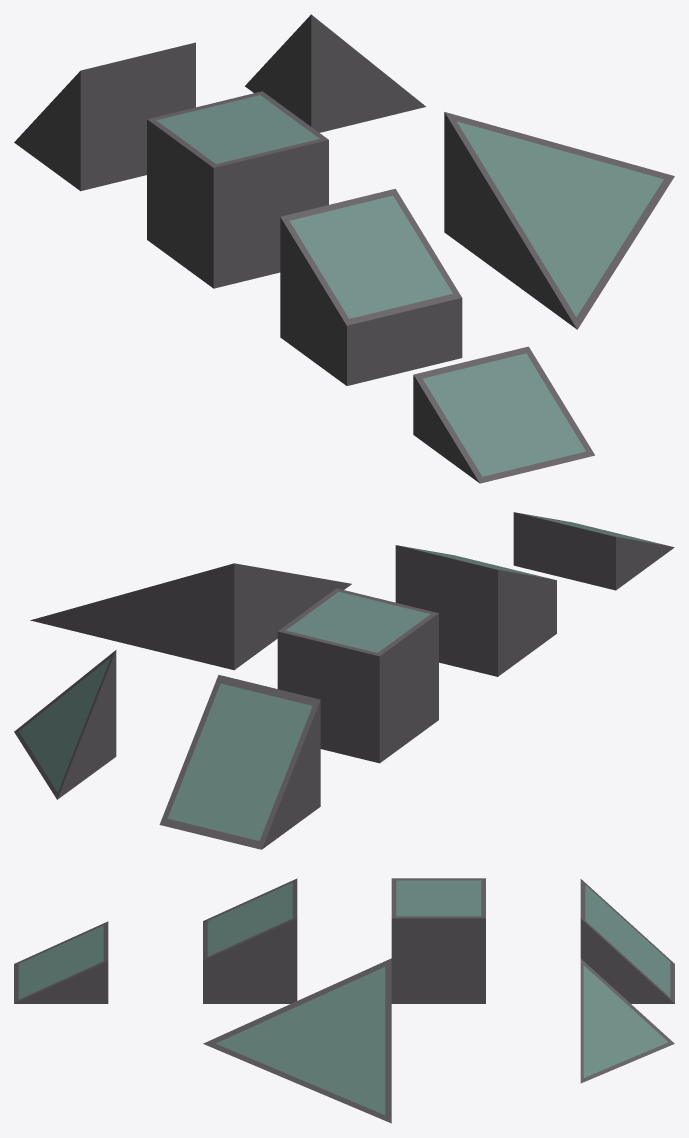
Rendered from test_tileset_2_5D.glb.
3 views of the same model, one above another, from view 1: azimuth 30°, elevation 25°; view 2: azimuth 150°, elevation 25°; view 3: azimuth 270°, elevation 25° (orthographic). The views are drawn at different scales.
Visible parts, largest first — view 1: Cube.005, Cube.003, Cube, Cube.002, Cube.001, Cube.004; view 2: Cube, Cube.001, Cube.005, Cube.003, Cube.004, Cube.002; view 3: Cube.005, Cube, Cube.003, Cube.001, Cube.004, Cube.002.
Part boxes in pixels (box(x1,y1,x2,y2)): Cube.005: box(444, 112, 674, 329); Cube.003: box(280, 188, 462, 385); Cube: box(147, 91, 328, 288); Cube.002: box(413, 346, 594, 483); Cube.001: box(14, 42, 195, 191); Cube.004: box(245, 14, 425, 132); Cube: box(277, 588, 438, 763); Cube.001: box(159, 674, 320, 849); Cube.005: box(30, 563, 351, 670); Cube.003: box(395, 545, 556, 676); Cube.004: box(14, 650, 116, 799); Cube.002: box(513, 512, 674, 590); Cube.005: box(203, 958, 391, 1123); Cube: box(391, 878, 485, 1003); Cube.003: box(203, 878, 297, 1003); Cube.001: box(580, 879, 674, 1003); Cube.004: box(580, 958, 674, 1083); Cube.002: box(14, 921, 108, 1003).
Size of the model in its own units: 8 by 2 by 14.
